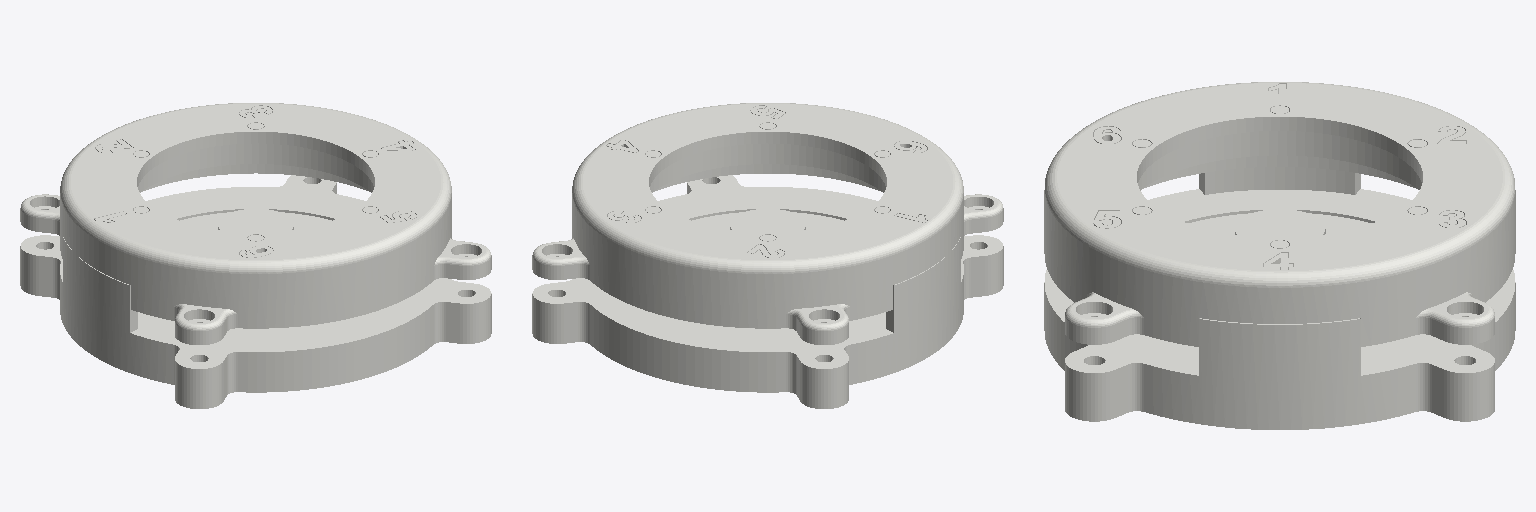
The robot description file, URDF, robot "cb_dial_base_snap":
<?xml version="1.0"?>
<!-- ContactBench dial_base_snap. Generated by FoundationTouch tools/contactbench/make_contactbench_assets.py -->
<robot name="cb_dial_base_snap">
  <material name="c"><color rgba="0.92 0.92 0.90 1.0"/></material>
  <link name="receptive">
    <visual><origin xyz="0 0 0" rpy="0 0 0"/><geometry><mesh filename="dial_base_snap.obj" scale="1 1 1"/></geometry><material name="c"/></visual>
    <collision><origin xyz="0 0 0" rpy="0 0 0"/><geometry><mesh filename="dial_base_snap.obj" scale="1 1 1"/></geometry><sdf resolution="256"/></collision>
  </link>
</robot>

--- Facts derived from the render (not from the file) ---
3 views of the same robot in one strip: view 1: azimuth 30°, elevation 25°; view 2: azimuth 150°, elevation 25°; view 3: azimuth 270°, elevation 25° (orthographic).
Robot: cb_dial_base_snap — 1 links, 0 joints (none); root link receptive; default pose: all joints at 0.
Links seen in each view (by area): view 1: receptive; view 2: receptive; view 3: receptive.
Link boxes in pixels (<box>): receptive: <box>20,103,491,408</box>; receptive: <box>532,103,1003,408</box>; receptive: <box>1044,82,1515,429</box>.
Size in the robot's own frame: 0.075 by 0.075 by 0.027 metres.
Meshes: 1 distinct files referenced, 1 mesh visuals loaded (1 OBJ).
